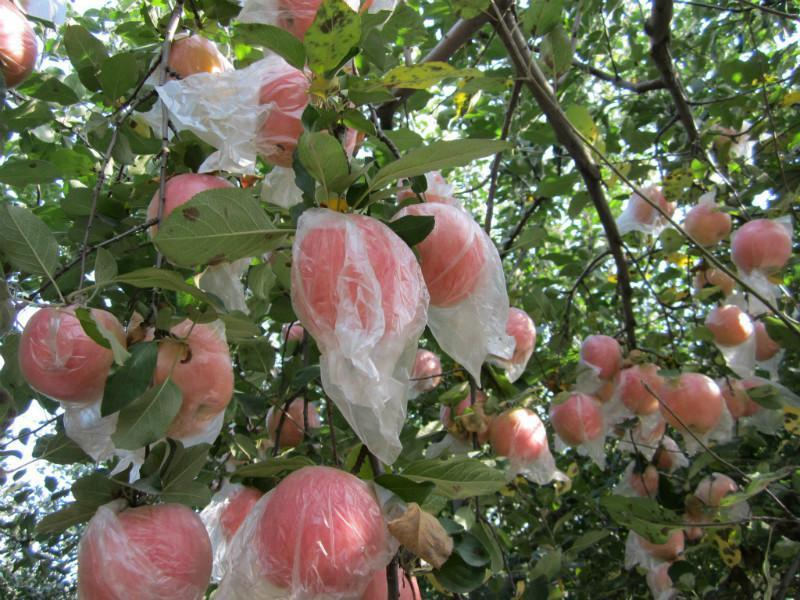apple: (160, 316, 234, 445), (145, 171, 232, 230), (1, 1, 39, 91), (730, 217, 789, 273), (682, 204, 730, 244)
